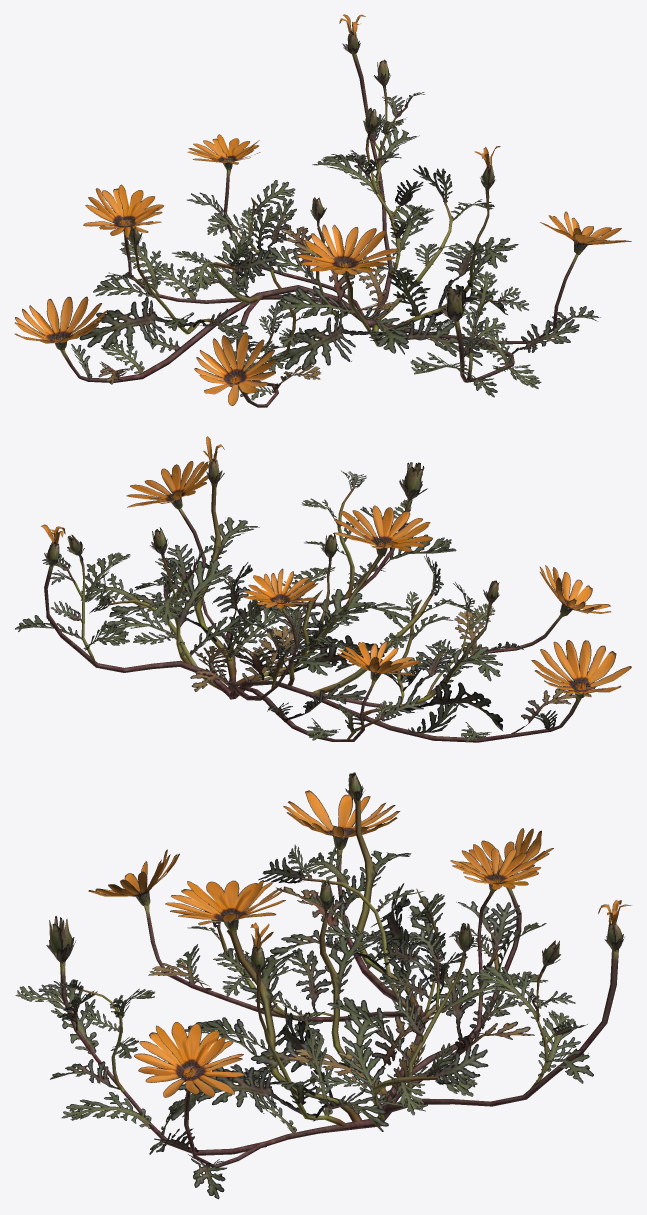
Rendered from flower_ursinia.glb.
The picture shows the model from 3 angles, top to bottom: view 1: azimuth 30°, elevation 25°; view 2: azimuth 150°, elevation 25°; view 3: azimuth 270°, elevation 25°; orthographic projection. The views are drawn at different scales.
Parts seen in each view (by area): view 1: flower_ursinia_a_LOD0; view 2: flower_ursinia_a_LOD0; view 3: flower_ursinia_a_LOD0.
Boxes of the visible parts, left/top/right/bottom form: flower_ursinia_a_LOD0: left=15, top=14, right=631, bottom=407; flower_ursinia_a_LOD0: left=15, top=436, right=631, bottom=742; flower_ursinia_a_LOD0: left=15, top=772, right=631, bottom=1199.
Bounding box in the file's own units: 0.4254 × 0.1642 × 0.3433.
Materials: 1 (1 with a texture image).
